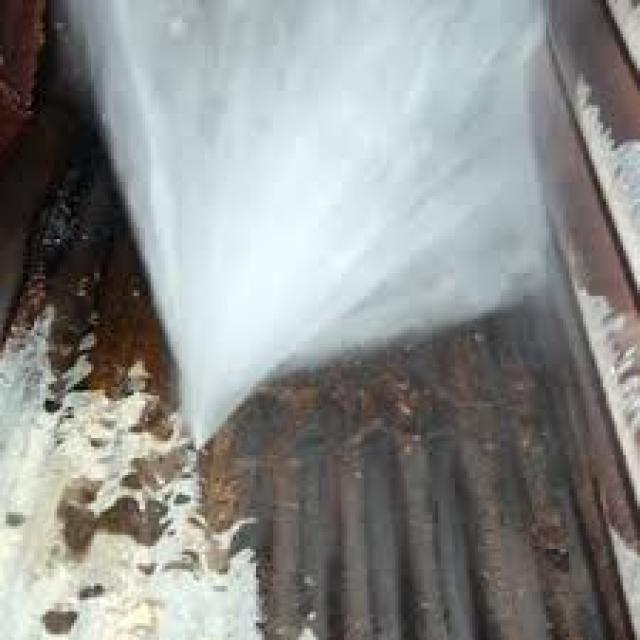corrosion: (86, 265, 351, 580)
